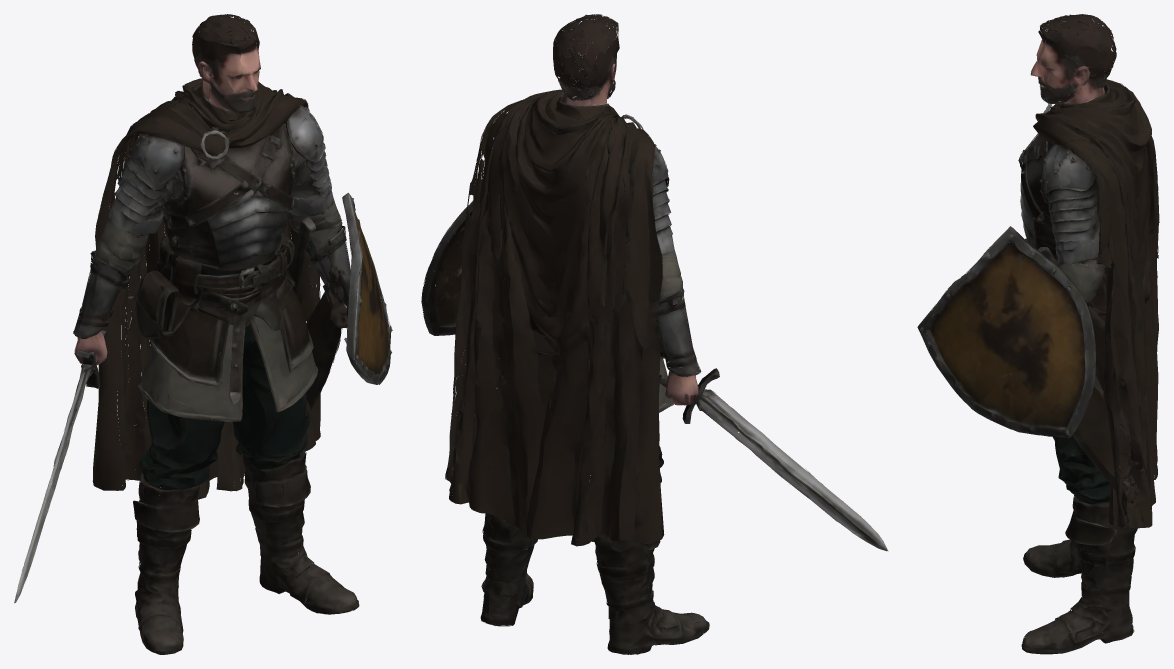
File: knight_ai.glb
3 renders of one model, left to right at view 1: azimuth 30°, elevation 25°; view 2: azimuth 150°, elevation 25°; view 3: azimuth 270°, elevation 25°, orthographic. The views are drawn at different scales.
Parts seen in each view (by area): view 1: Knight; view 2: Knight; view 3: Knight.
Part boxes in pixels (box(x1,y1,x2,y2)): Knight: box(14, 14, 392, 654); Knight: box(421, 14, 888, 654); Knight: box(917, 14, 1159, 654).
Size of the model in its own units: 1.31 by 1.8 by 0.6714.
1 material, 1 textured.
